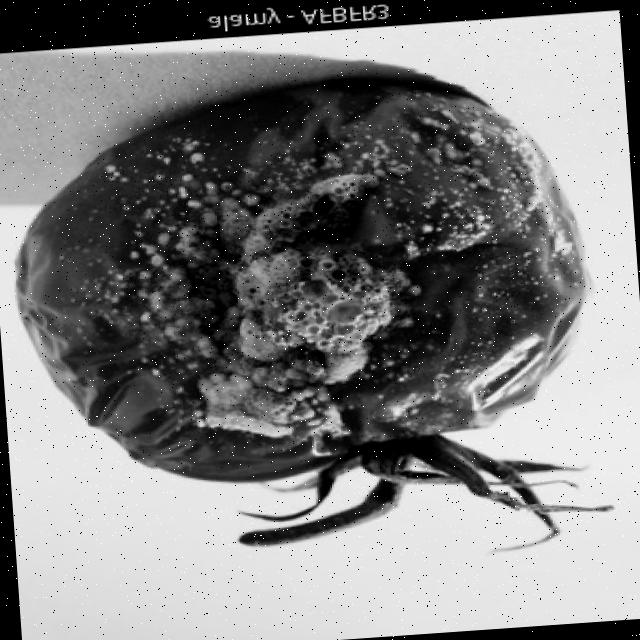Rotten: (0, 61, 603, 502)
